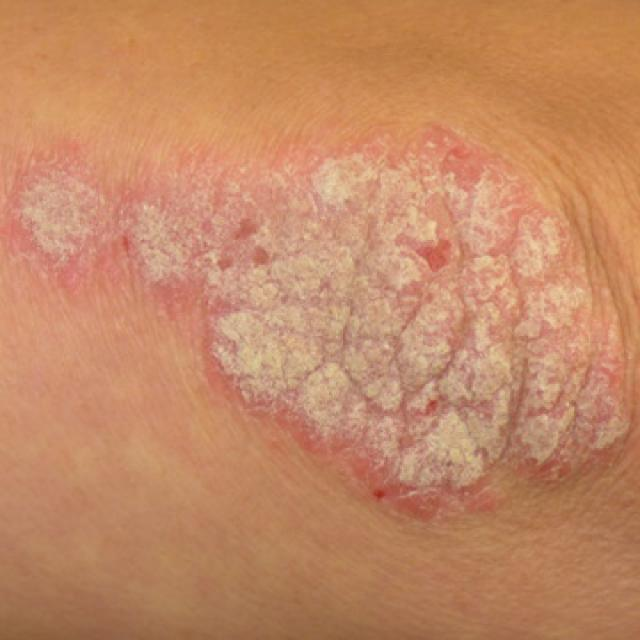Psoriasis: (199, 128, 633, 523), (1, 136, 198, 332)
